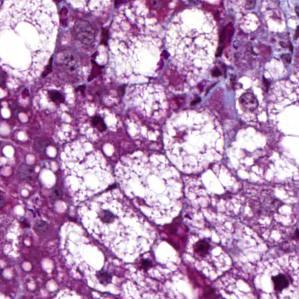ballooning: (75, 184, 160, 267), (113, 148, 185, 227), (4, 3, 62, 86), (161, 108, 226, 177)
